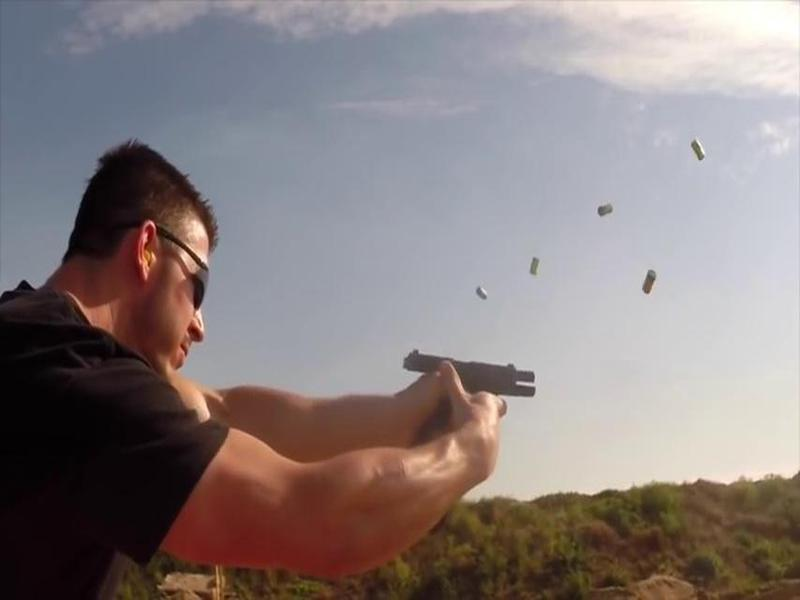Pistola: (390, 343, 554, 446)
